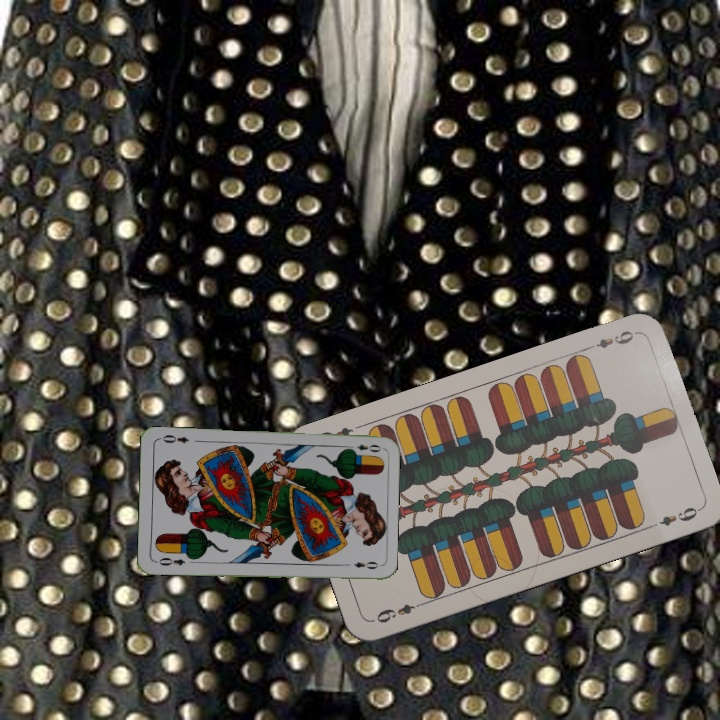E9: (369, 598, 426, 626), (584, 326, 641, 352)
EO: (344, 440, 383, 455), (155, 553, 188, 569)
